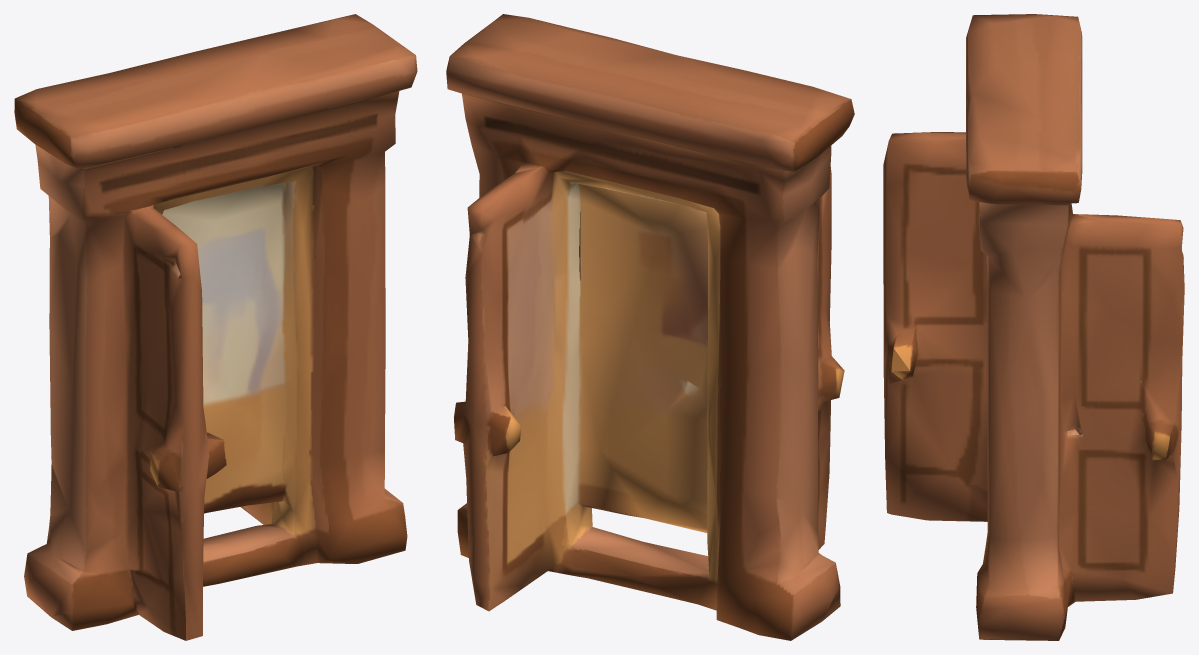
Rendered from office-door-open.glb.
3 views of the same model, side by side, from view 1: azimuth 30°, elevation 25°; view 2: azimuth 150°, elevation 25°; view 3: azimuth 270°, elevation 25° (orthographic). The views are drawn at different scales.
Parts seen in each view (by area): view 1: geometry_0.001; view 2: geometry_0.001; view 3: geometry_0.001.
Boxes of the visible parts, left/top/right/bottom form: geometry_0.001: left=14, top=14, right=417, bottom=640; geometry_0.001: left=446, top=14, right=854, bottom=640; geometry_0.001: left=883, top=14, right=1184, bottom=640.
Bounding box in the file's own units: 0.7238 × 0.9999 × 0.5743.
1 material, 1 textured.
